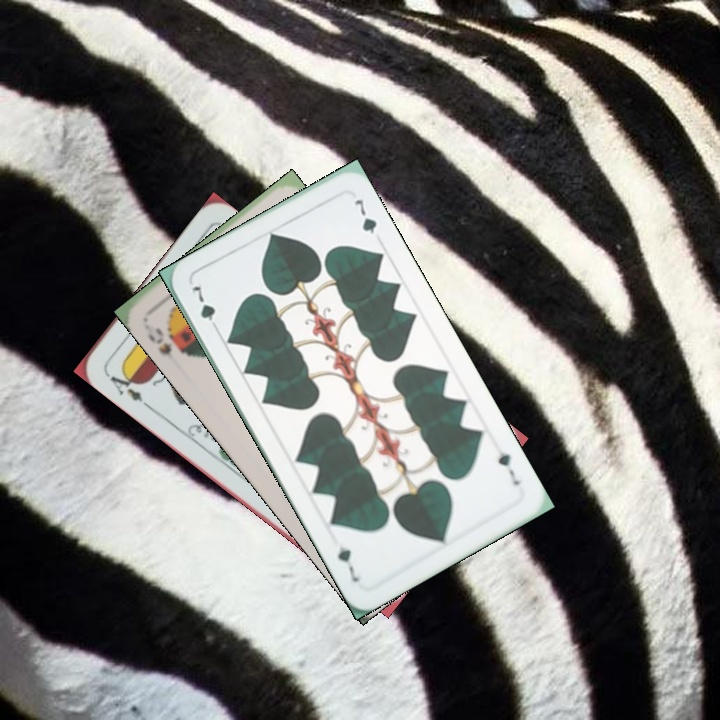EA: (102, 365, 146, 404)
G7: (187, 281, 223, 334), (494, 441, 523, 488)
SO: (143, 324, 191, 369)
